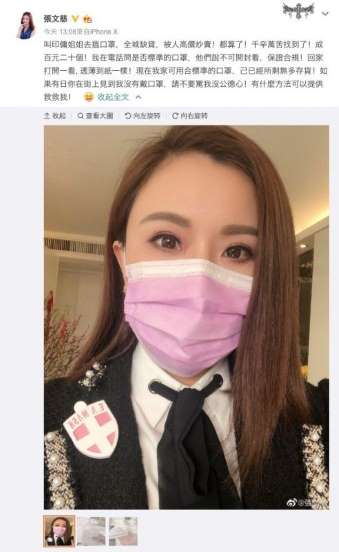Mask: (116, 155, 263, 372)
